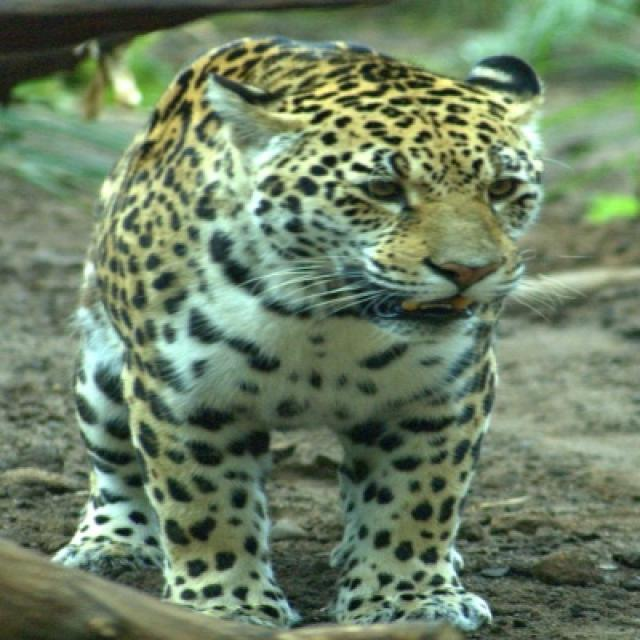Jaguar: (53, 35, 544, 635)
